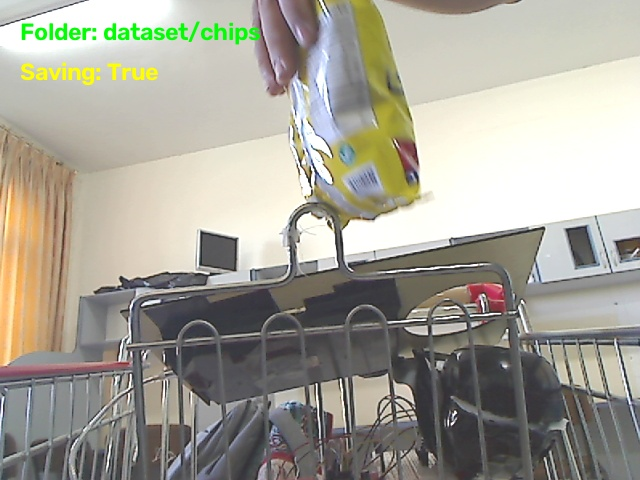chips: (289, 0, 419, 226)
